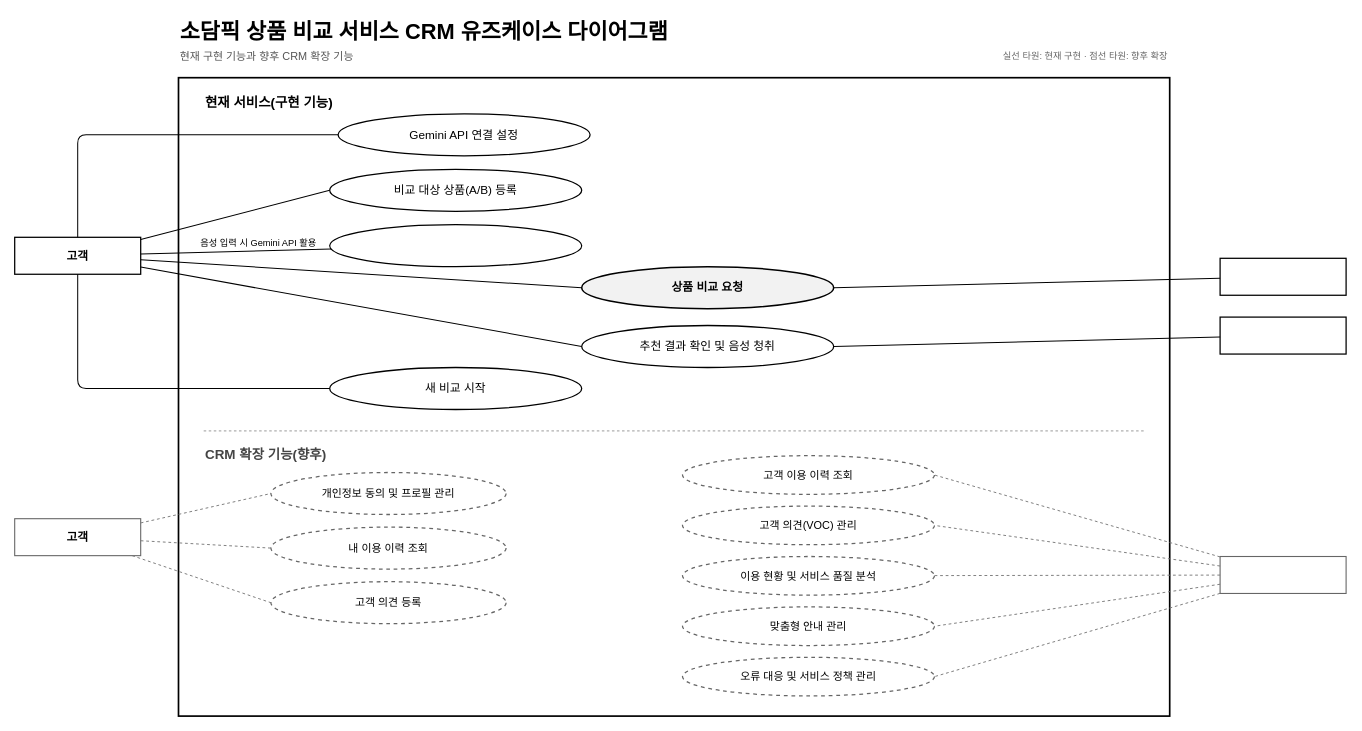
Some shapes in this 1362 by 731 pixel diagram are drawn without their labels. The centre of each missing label's shape, as x and y in pixels:
"CRM 운영자" goes at (x=1282, y=575).
"Gemini API" goes at (x=1282, y=276).
"gTTS" goes at (x=1282, y=335).
"비교 조건 입력 (직접 입력·음성 입력)" goes at (x=455, y=245).
